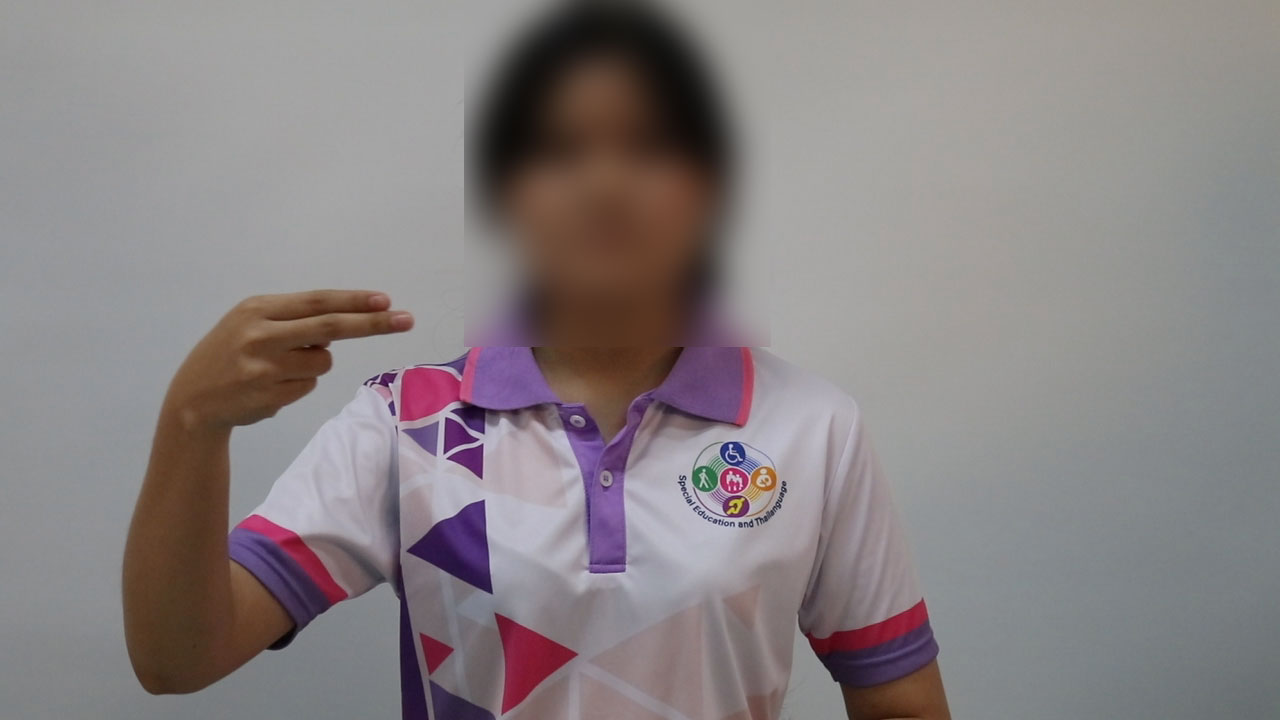hor: (136, 264, 437, 441)
